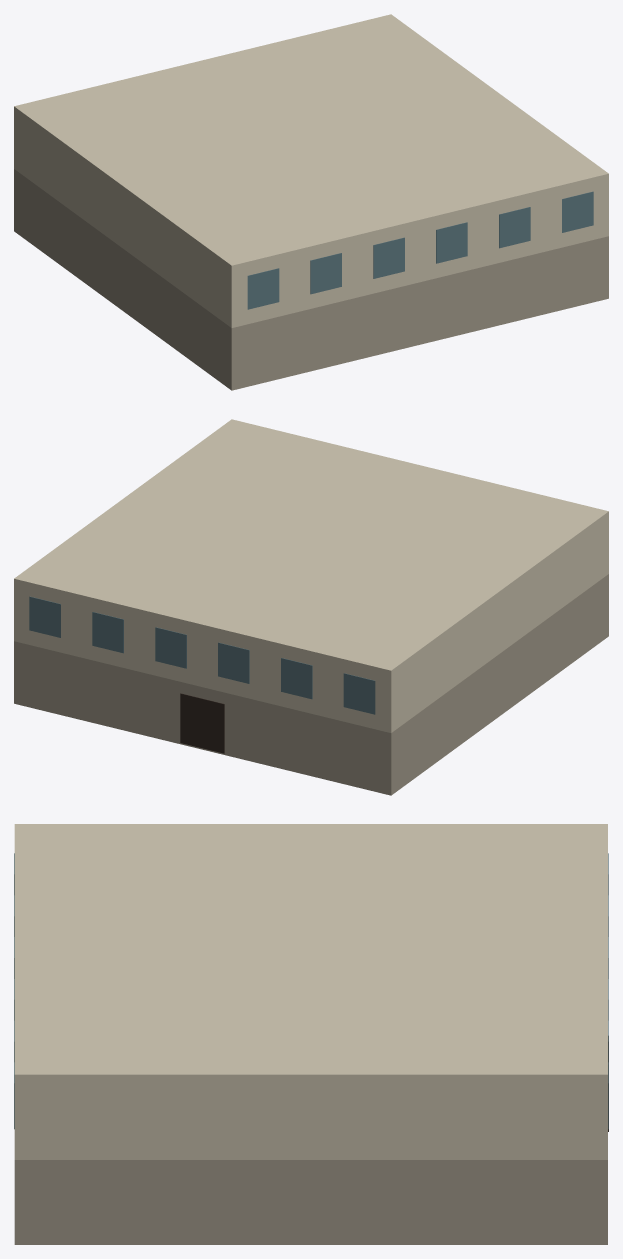
File: tw_stone_24_base_lod1.glb
The picture shows the model from 3 angles, top to bottom: view 1: azimuth 30°, elevation 25°; view 2: azimuth 150°, elevation 25°; view 3: azimuth 270°, elevation 25°; orthographic projection. The views are drawn at different scales.
Visible parts, largest first — view 1: tw_stone_24_base_lod1; view 2: tw_stone_24_base_lod1; view 3: tw_stone_24_base_lod1.
Part boxes in pixels (<box>): tw_stone_24_base_lod1: <box>14,14,608,390</box>; tw_stone_24_base_lod1: <box>14,419,608,795</box>; tw_stone_24_base_lod1: <box>14,824,608,1244</box>.
Bounding box in the file's own units: 24 × 7.6 × 24.07.
2 materials, 2 textured.
